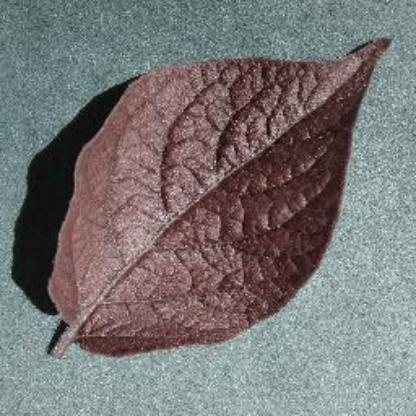Healthy-plant: (43, 30, 392, 370)
